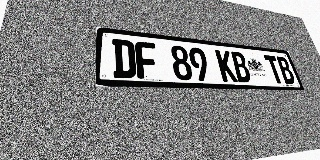8: (170, 45, 193, 80)
9: (188, 47, 211, 81)
B: (230, 51, 252, 82), (275, 56, 297, 84)
D: (112, 39, 137, 78)
F: (135, 41, 159, 79)
K: (215, 50, 238, 82)
T: (263, 55, 285, 84)
